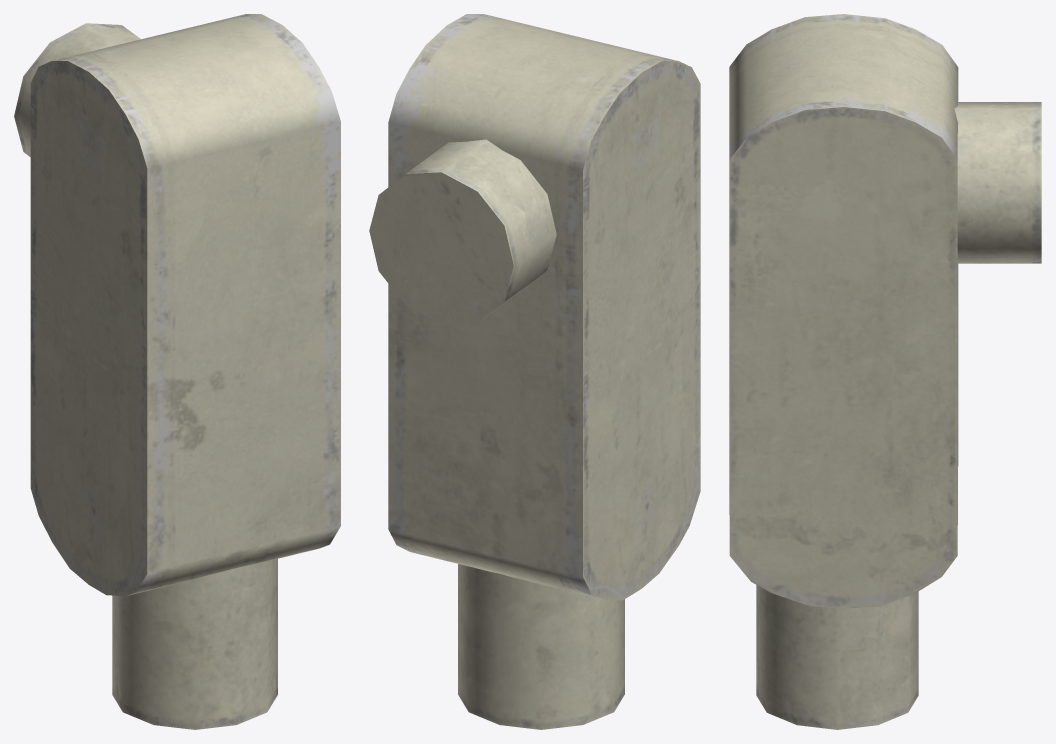
File: SM_Wall_Electrical_Wire_Casing_02a.fbx
3 views of the same model, side by side, from view 1: azimuth 30°, elevation 25°; view 2: azimuth 150°, elevation 25°; view 3: azimuth 270°, elevation 25° (orthographic). The views are drawn at different scales.
Parts seen in each view (by area): view 1: SM_Wall_Electrical_Wire_Casing_02a_LOD0; view 2: SM_Wall_Electrical_Wire_Casing_02a_LOD0; view 3: SM_Wall_Electrical_Wire_Casing_02a_LOD0.
Boxes of the visible parts, x1=… form: SM_Wall_Electrical_Wire_Casing_02a_LOD0: x1=14, y1=14, x2=340, y2=729; SM_Wall_Electrical_Wire_Casing_02a_LOD0: x1=369, y1=14, x2=700, y2=729; SM_Wall_Electrical_Wire_Casing_02a_LOD0: x1=729, y1=14, x2=1041, y2=729.
Bounding box in the file's own units: 2.85 × 4.05 × 9.03.
Materials: 1 (1 with a texture image).
